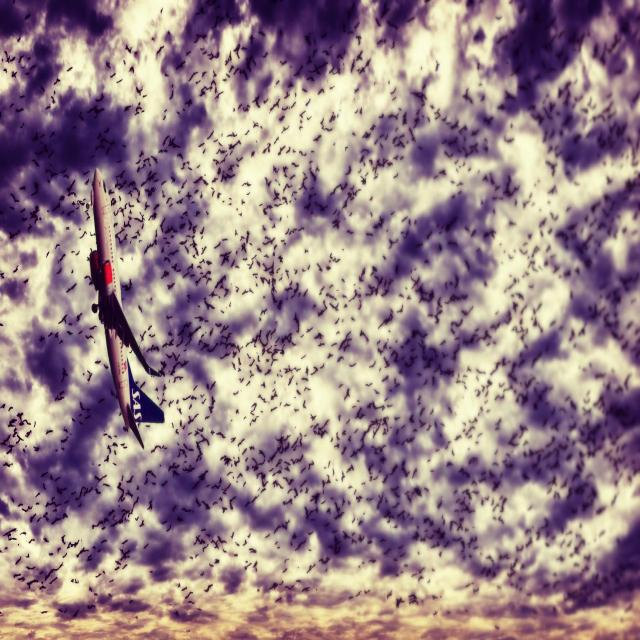airplane: (84, 166, 164, 449)
